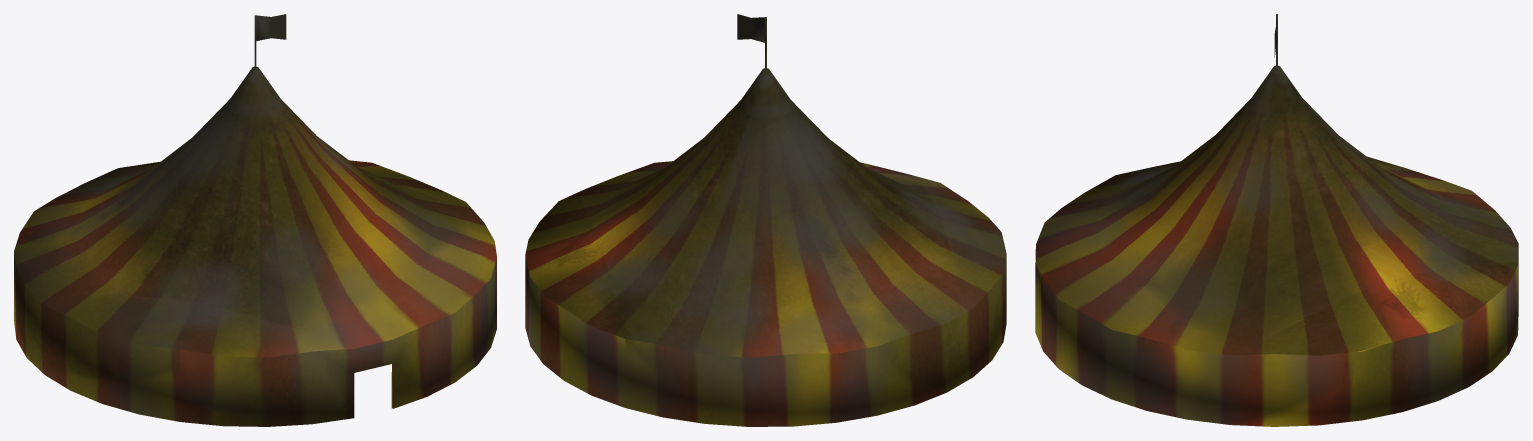
File: Teltta_v3.fbx
3 views of the same model, side by side, from view 1: azimuth 30°, elevation 25°; view 2: azimuth 150°, elevation 25°; view 3: azimuth 270°, elevation 25° (orthographic).
Visible parts, largest first — view 1: TelttaULKOPUOLI; view 2: TelttaULKOPUOLI; view 3: TelttaULKOPUOLI.
Part boxes in pixels (left/top/right/bottom): TelttaULKOPUOLI: left=14, top=14, right=496, bottom=426; TelttaULKOPUOLI: left=525, top=14, right=1006, bottom=426; TelttaULKOPUOLI: left=1035, top=14, right=1518, bottom=426.
Bounding box in the file's own units: 64.79 × 45.75 × 64.57.
